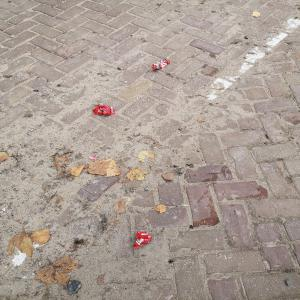Trash: (133, 230, 158, 251), (92, 102, 120, 120), (151, 57, 174, 73)
